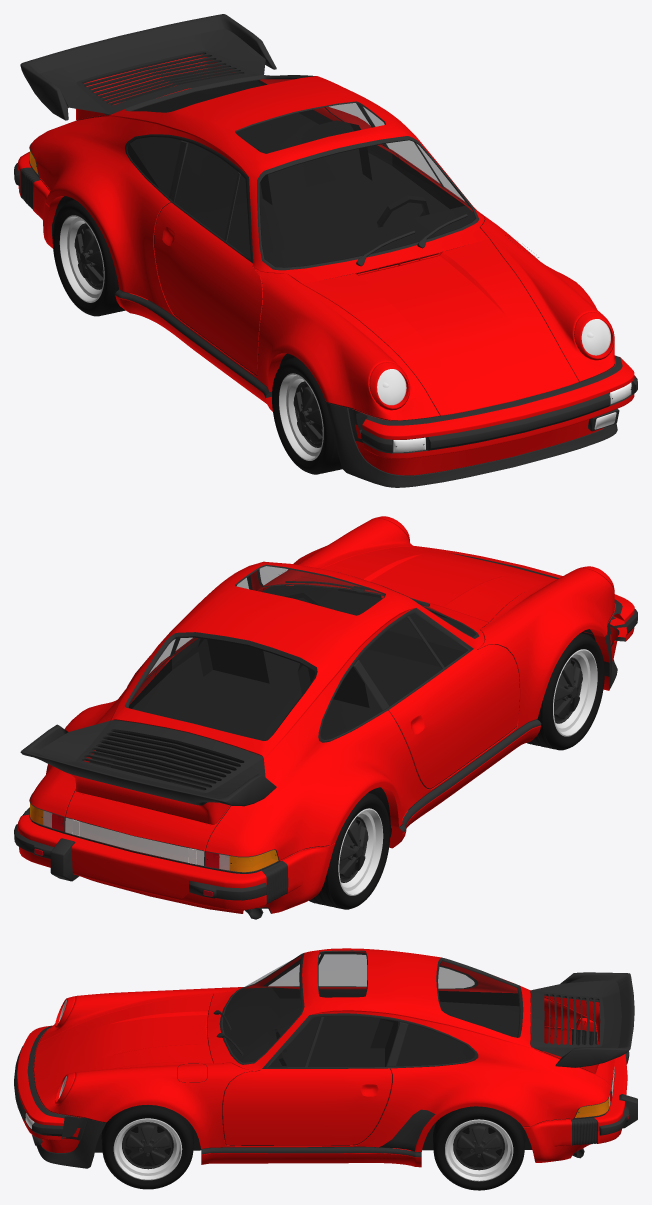
File: Car.glb
3 views of the same model, one above another, from view 1: azimuth 30°, elevation 25°; view 2: azimuth 150°, elevation 25°; view 3: azimuth 270°, elevation 25° (orthographic). The views are drawn at different scales.
Visible parts, largest first — view 1: body_final, Car_Bumper, Car_Glass, Car_Interior, Car_Tyres, Car.011, Car.001, Car.005, Car.004; view 2: body_final, Car_Glass, Car_Bumper, Car_Interior, Car_Tyres, Car.007, Car.005, Car.008, Cube.003; view 3: body_final, Car_Glass, Car_Bumper, Car_Interior, Car_Tyres, Car.005, Cube.002, Car.008, Cube.003.
Part boxes in pixels (box(x1,y1,x2,y2)): body_final: box(17, 54, 634, 475); Car_Bumper: box(14, 14, 637, 487); Car_Glass: box(128, 78, 475, 267); Car_Interior: box(127, 80, 475, 267); Car_Tyres: box(52, 199, 342, 474); Car.011: box(377, 319, 610, 405); Car.001: box(377, 319, 609, 404); Car.005: box(40, 115, 614, 429); Car.004: box(393, 382, 631, 452); body_final: box(17, 516, 634, 913); Car_Glass: box(129, 565, 475, 740); Car_Bumper: box(14, 553, 637, 904); Car_Interior: box(95, 585, 475, 780); Car_Tyres: box(309, 633, 604, 909); Car.007: box(65, 817, 204, 865); Car.005: box(65, 585, 614, 913); Car.008: box(30, 803, 278, 872); Cube.003: box(50, 838, 79, 881); body_final: box(17, 948, 627, 1167); Car_Glass: box(222, 951, 519, 1067); Car_Bumper: box(14, 950, 634, 1168); Car_Interior: box(222, 987, 519, 1067); Car_Tyres: box(101, 1105, 525, 1190); Car.005: box(33, 991, 594, 1152); Cube.002: box(379, 1109, 435, 1151); Car.008: box(575, 1018, 608, 1117); Cube.003: box(619, 1094, 637, 1128).
Bounding box in the file's own units: 117 × 85.07 × 285.
